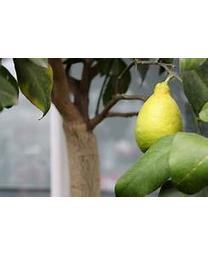lemon: (137, 81, 184, 152)
